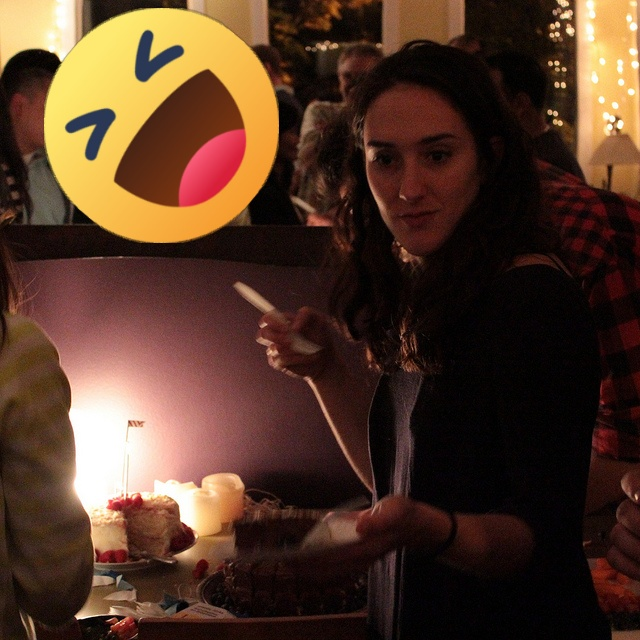haha: (44, 8, 279, 243)
